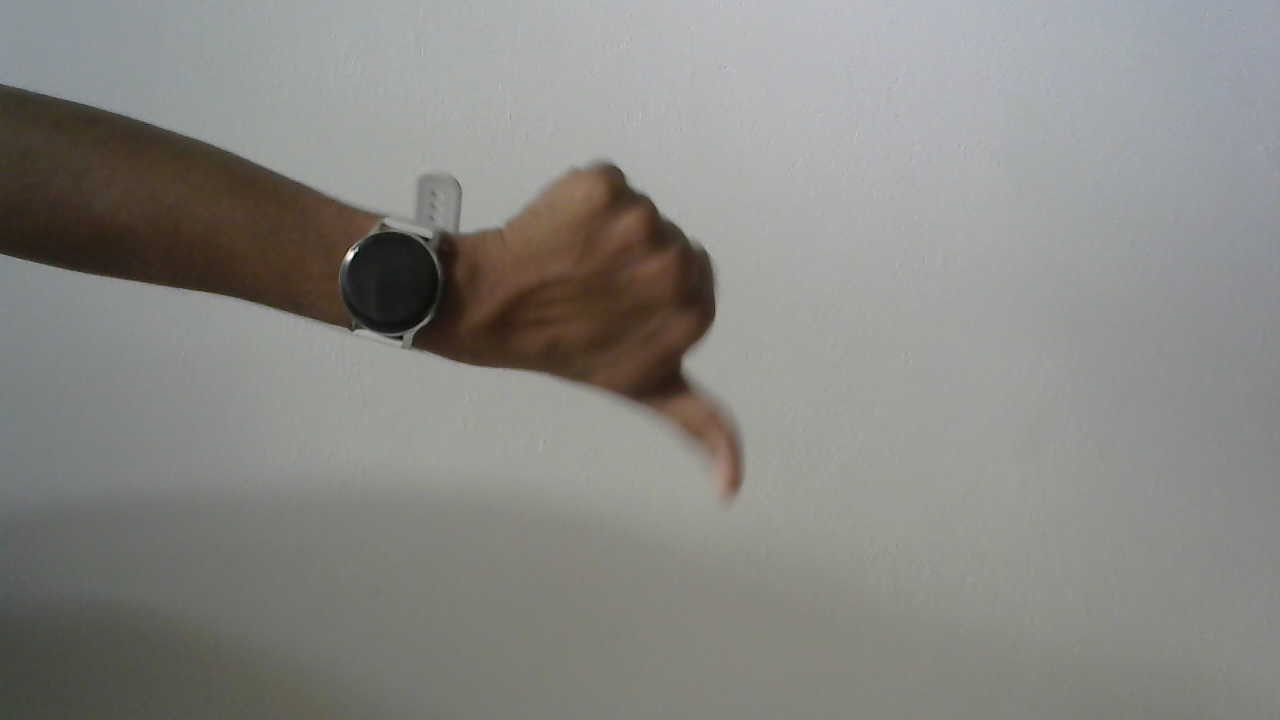thumbsdown: (474, 141, 802, 520)
